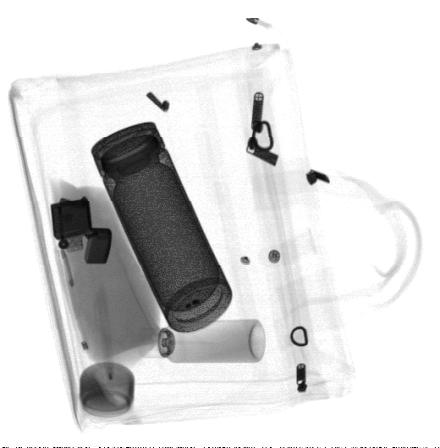Lighter: (51, 199, 111, 265)
Sprayer: (136, 319, 266, 363)
